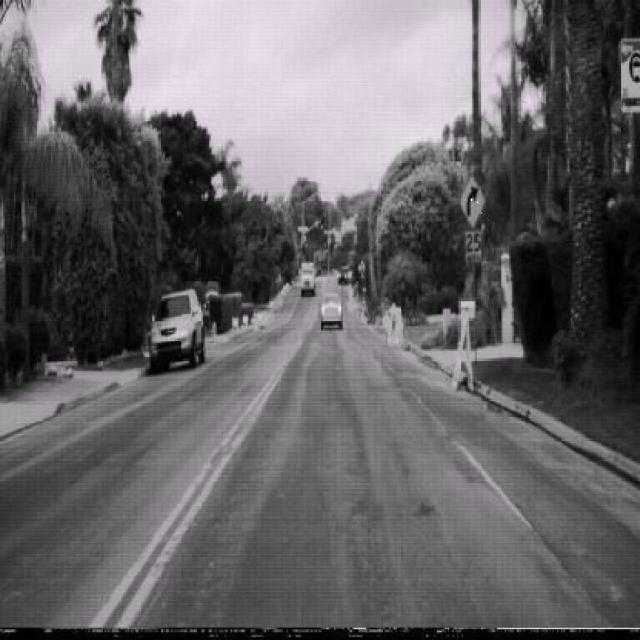curveRight: (459, 172, 486, 228)
